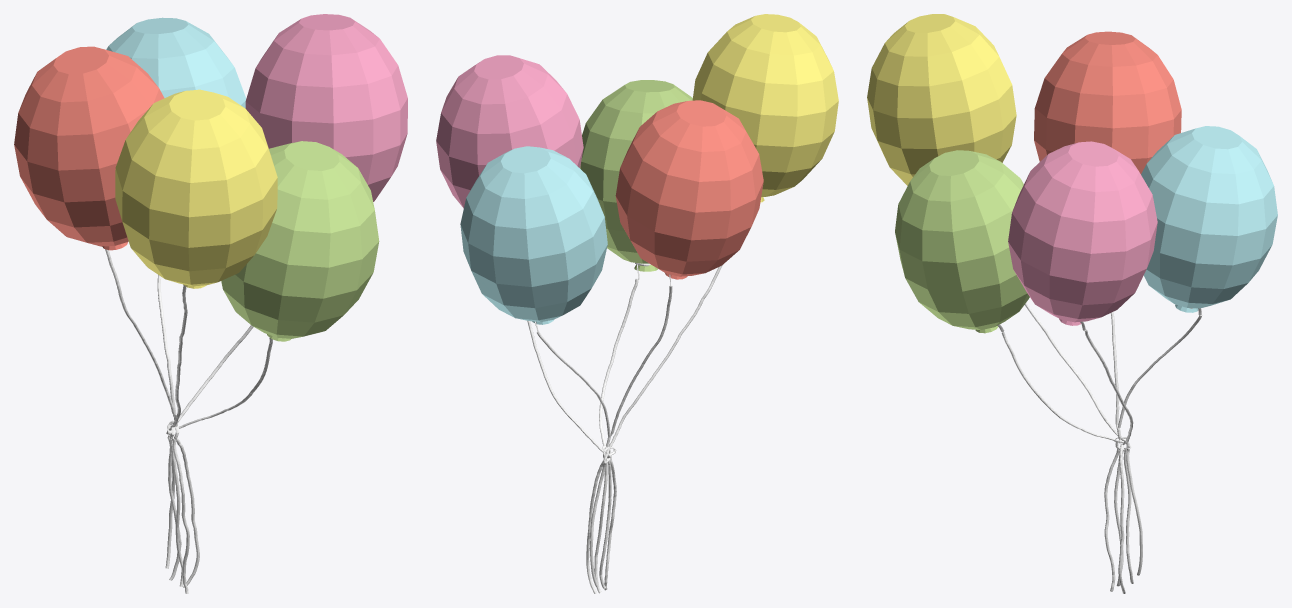
The model's file is Balloon.glb.
3 views of the same model, side by side, from view 1: azimuth 30°, elevation 25°; view 2: azimuth 150°, elevation 25°; view 3: azimuth 270°, elevation 25° (orthographic). The views are drawn at different scales.
Visible parts, largest first — view 1: group937412317, group998948878, group210495034, group1093366644, group96097516, group1754021478, group1183560749, group1528678164, group179702927, group1769143226, group358046811; view 2: group210495034, group96097516, group937412317, group1093366644, group998948878, group179702927, group2049239786, group1754021478; view 3: group1093366644, group96097516, group937412317, group998948878, group210495034, group1528678164, group179702927.
Part boxes in pixels (box(x1,y1,x2,y2)): group937412317: box(115, 89, 277, 286); group998948878: box(221, 141, 379, 338); group210495034: box(14, 46, 164, 246); group1093366644: box(245, 14, 407, 201); group96097516: box(106, 17, 246, 108); group1754021478: box(105, 249, 177, 426); group1183560749: box(172, 439, 189, 593); group1528678164: box(170, 435, 199, 587); group179702927: box(166, 285, 187, 434); group1769143226: box(157, 275, 176, 417); group358046811: box(170, 439, 183, 586); group210495034: box(615, 100, 763, 276); group96097516: box(460, 146, 607, 321); group937412317: box(692, 14, 838, 196); group1093366644: box(436, 55, 583, 208); group998948878: box(580, 80, 692, 263); group179702927: box(603, 265, 722, 460); group2049239786: box(599, 278, 638, 447); group1754021478: box(606, 285, 672, 446); group1093366644: box(1008, 141, 1157, 322); group96097516: box(1141, 126, 1277, 308); group937412317: box(867, 14, 1016, 185); group998948878: box(895, 150, 1029, 329); group210495034: box(1034, 31, 1181, 173); group1528678164: box(1118, 444, 1125, 593); group179702927: box(1024, 302, 1131, 447).
Size of the model in its own units: 1.22 by 1.91 by 1.33.
